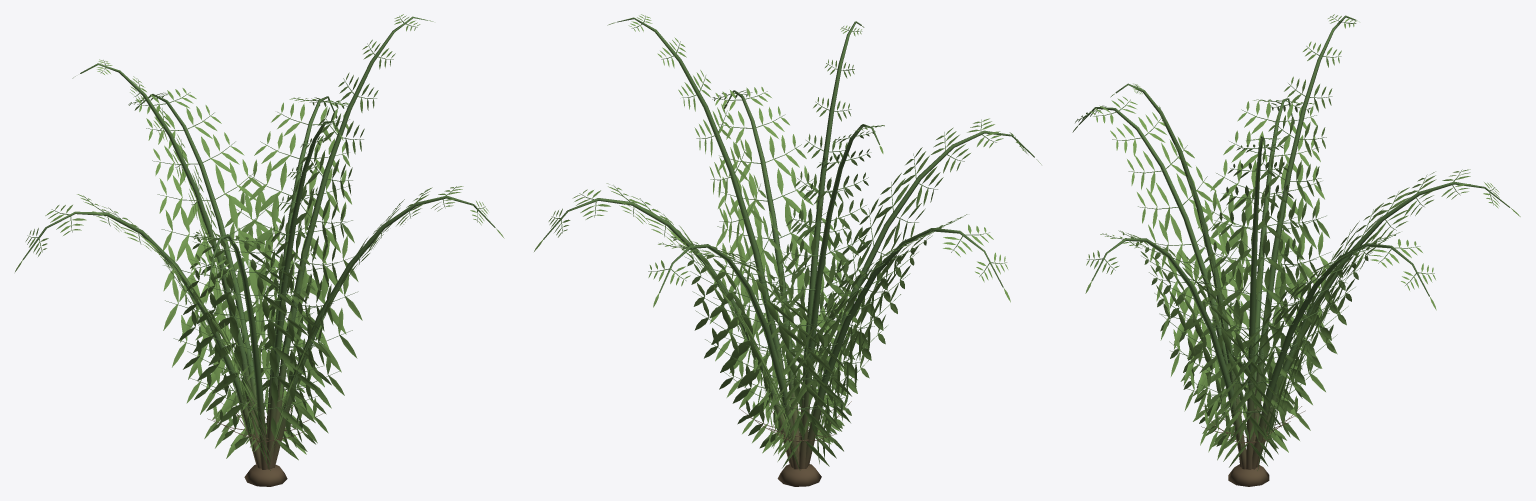
The model's file is Fern_lod1.glb.
3 views of the same model, side by side, from view 1: azimuth 30°, elevation 25°; view 2: azimuth 150°, elevation 25°; view 3: azimuth 270°, elevation 25° (orthographic). The views are drawn at different scales.
Parts seen in each view (by area): view 1: Plant_LOD1; view 2: Plant_LOD1; view 3: Plant_LOD1.
Boxes of the visible parts, <box> form: Plant_LOD1: <box>15,14,504,486</box>; Plant_LOD1: <box>534,14,1041,486</box>; Plant_LOD1: <box>1072,14,1520,486</box>.
Bounding box in the file's own units: 0.7814 × 0.7635 × 0.7495.
